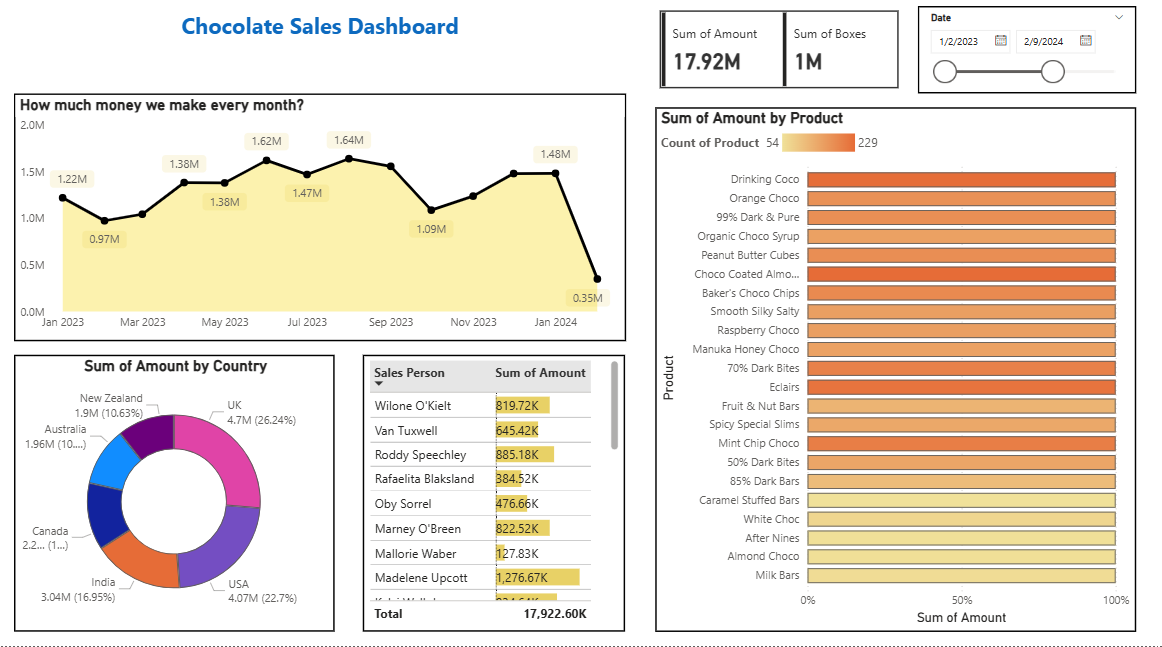

What the dashboard file says about the page in this screenshot:
{"tool":"powerbi","page":{"name":"Page 1","canvas":[1280,720],"ordinal":0},"visuals":[{"type":"lineChart","title":"How much money we make every month?","fields":{"Category":["data.Date.Variation.Date Hierarchy.Year","data.Date.Variation.Date Hierarchy.Quarter","data.Date.Variation.Date Hierarchy.Month","data.Date.Variation.Date Hierarchy.Day"],"Y":["Sum(data.Amount)"]},"box":[16,112,672,272],"z":0},{"type":"donutChart","fields":{"Category":["data.Country"],"Y":["Sum(data.Amount)"]},"box":[16,400,352,304],"z":1000},{"type":"tableEx","fields":{"Values":["data.Sales Person","Sum(data.Amount)"]},"box":[400,400,288,304],"z":2000},{"type":"hundredPercentStackedBarChart","fields":{"Category":["data.Product"],"Y":["Sum(data.Amount)"]},"box":[720,128,528,576],"z":3000},{"type":"cardVisual","fields":{"Data":["Sum(data.Amount)","Sum(data.Boxes)"]},"box":[720,16,272,96],"z":3001},{"type":"slicer","fields":{"Values":["data.Date"]},"box":[1008,16,240,96],"z":3002},{"type":"textbox","box":[16,16,672,64],"z":3003}]}

Visuals, with their boxes in screenshot pixels (x1, y1, x2, y2), scaled from the page's 1280x720 canvas onto the 1162x647 screenshot:
"How much money we make every month?" lineChart: [left=15, top=101, right=625, bottom=345]
donutChart - data.Country x Sum(data.Amount): [left=15, top=359, right=334, bottom=633]
tableEx - data.Sales Person x Sum(data.Amount): [left=363, top=359, right=625, bottom=633]
hundredPercentStackedBarChart - data.Product x Sum(data.Amount): [left=654, top=115, right=1133, bottom=633]
cardVisual - Sum(data.Amount) x Sum(data.Boxes): [left=654, top=14, right=901, bottom=101]
slicer - data.Date: [left=915, top=14, right=1133, bottom=101]
textbox: [left=15, top=14, right=625, bottom=72]
